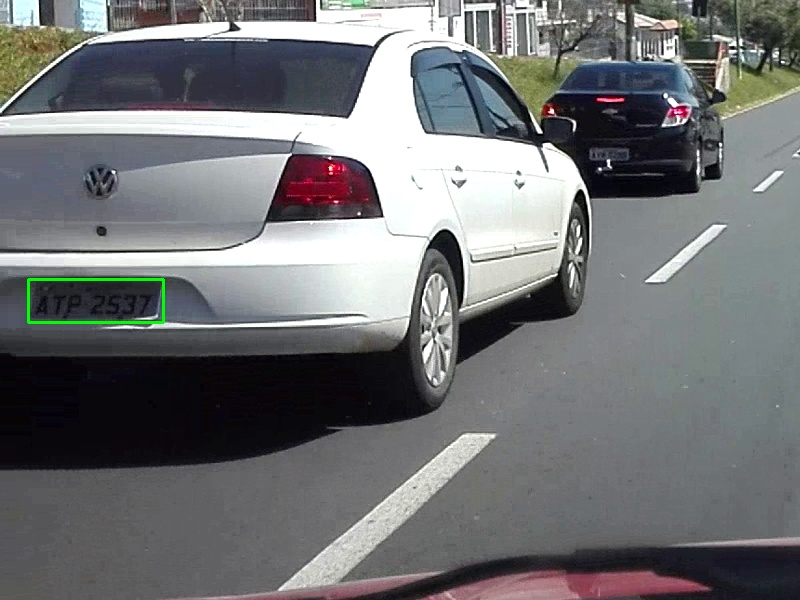placa: (28, 279, 163, 322)
